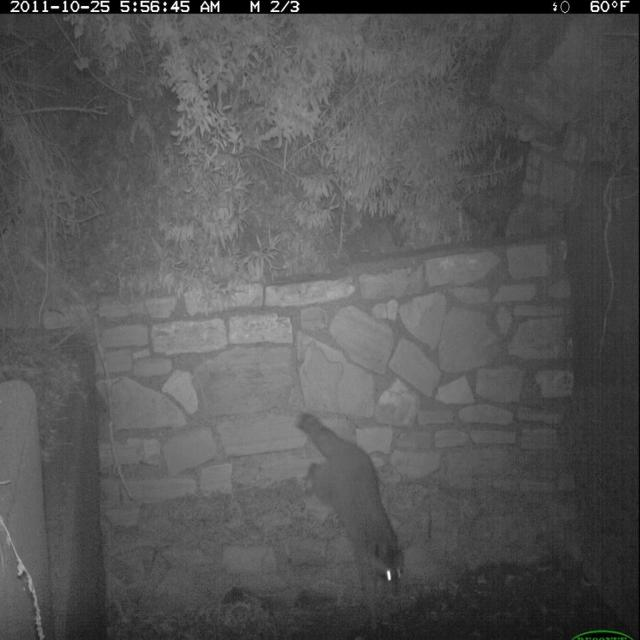raccoon: (293, 409, 417, 629)
